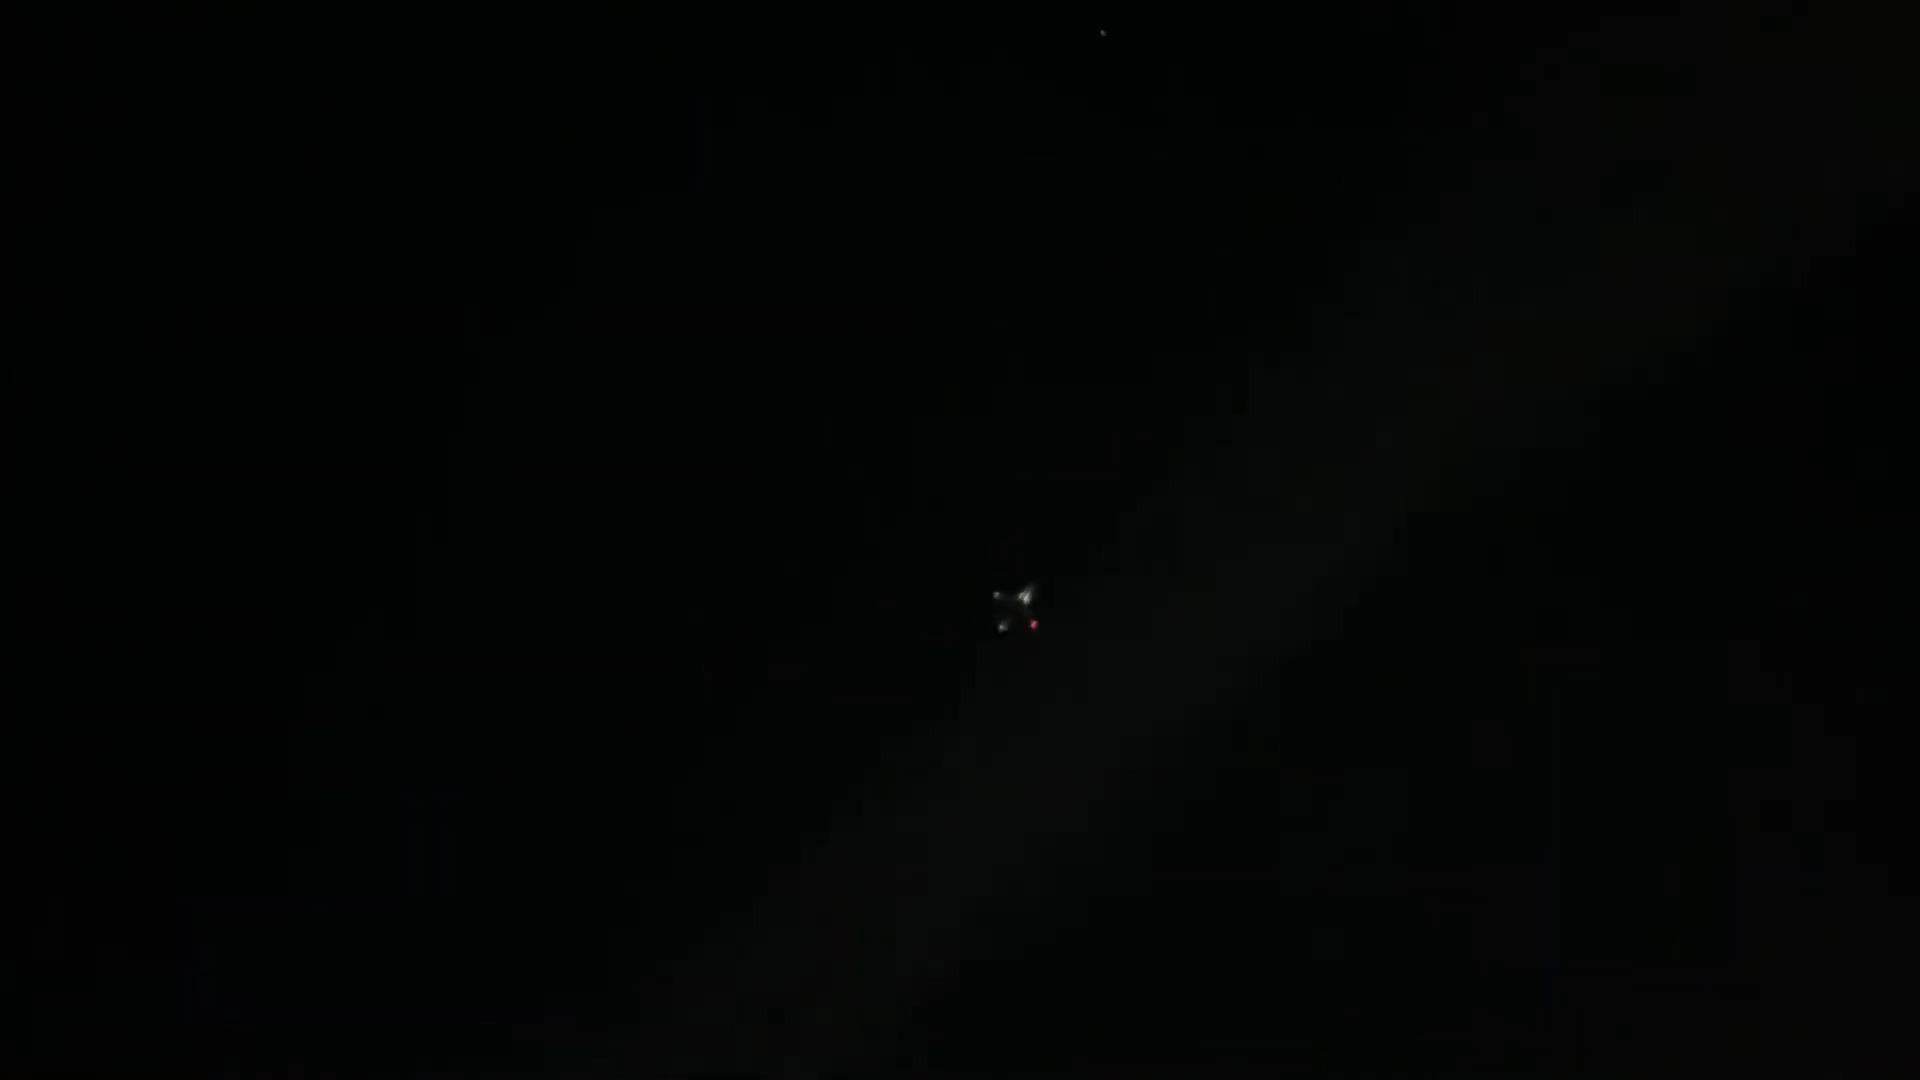Plane: (953, 560, 1104, 659)
